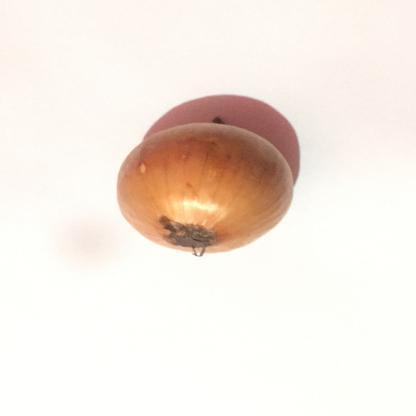onion: (99, 113, 312, 262)
